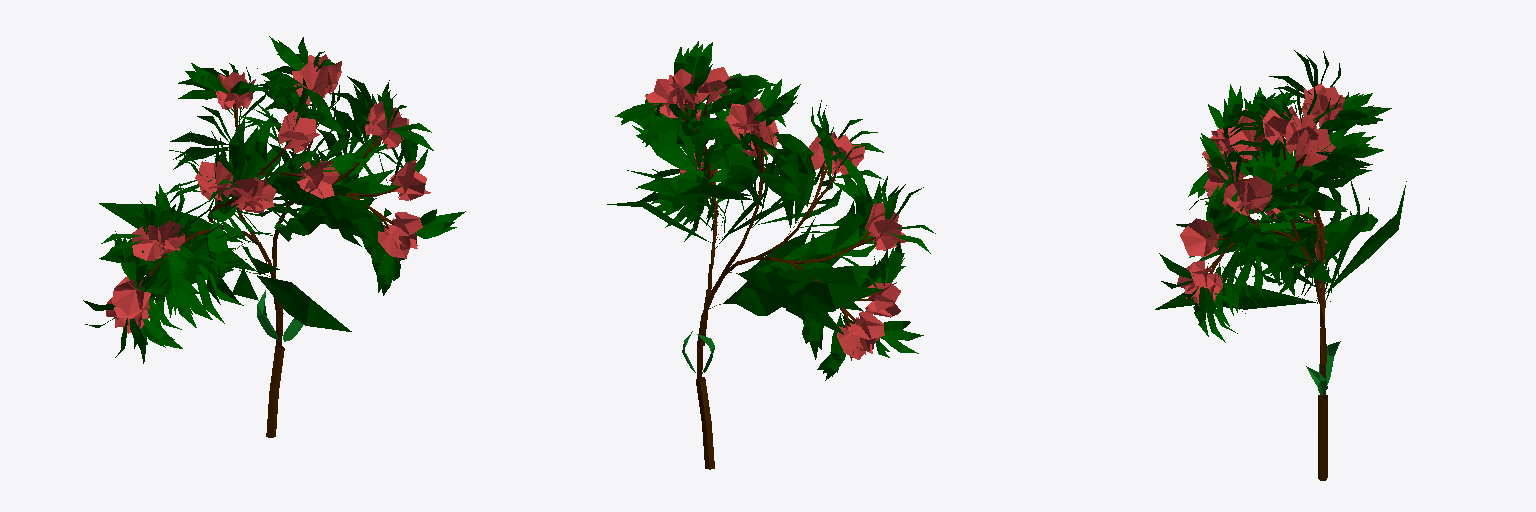
Rendered from plants1.obj.
3 renders of one model, left to right at view 1: azimuth 30°, elevation 25°; view 2: azimuth 150°, elevation 25°; view 3: azimuth 270°, elevation 25°, orthographic.
Visible parts, largest first — view 1: 1coral-li; view 2: 1coral-li; view 3: 1coral-li.
Part boxes in pixels (bbox=[...]): 1coral-li: bbox=[83, 36, 465, 437]; 1coral-li: bbox=[607, 41, 935, 469]; 1coral-li: bbox=[1155, 50, 1406, 480].
Size of the model in its own units: 692 by 829 by 465.